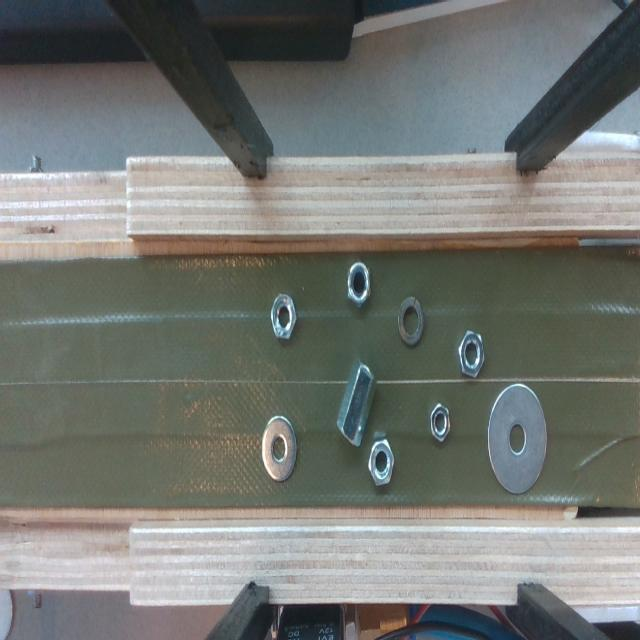Nut: (333, 353, 381, 448), (452, 327, 492, 382), (364, 436, 398, 490), (268, 291, 301, 346), (424, 402, 457, 448), (346, 256, 372, 312)
Washer: (482, 378, 554, 499), (256, 415, 299, 479), (394, 294, 430, 349)
